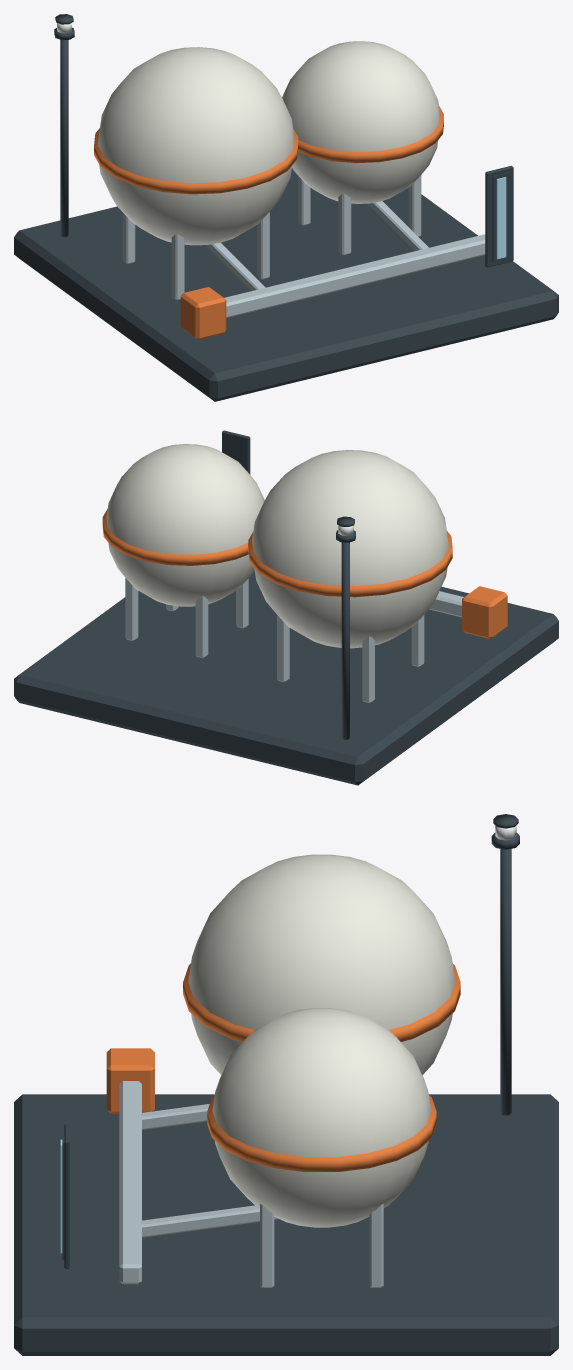
The model's file is tank.glb.
The picture shows the model from 3 angles, top to bottom: view 1: azimuth 30°, elevation 25°; view 2: azimuth 150°, elevation 25°; view 3: azimuth 270°, elevation 25°; orthographic projection. The views are drawn at different scales.
Parts seen in each view (by area): view 1: tank_dark, tank_ivory, tank_metal, tank_orange, Level; view 2: tank_dark, tank_ivory, tank_orange, tank_metal; view 3: tank_dark, tank_ivory, tank_metal, tank_orange.
Boxes of the visible parts, x1,y1,x2,y2 form: tank_dark: [14, 14, 558, 401]; tank_ivory: [97, 41, 440, 245]; tank_metal: [122, 175, 485, 317]; tank_orange: [94, 106, 443, 339]; Level: [496, 177, 506, 259]; tank_dark: [14, 430, 558, 785]; tank_ivory: [106, 444, 448, 648]; tank_orange: [102, 509, 507, 638]; tank_metal: [125, 578, 463, 702]; tank_dark: [14, 814, 558, 1355]; tank_ivory: [188, 854, 455, 1227]; tank_metal: [119, 1081, 383, 1287]; tank_orange: [106, 963, 460, 1171].
Bounding box in the file's own units: 3.85 × 2.59 × 3.85.
